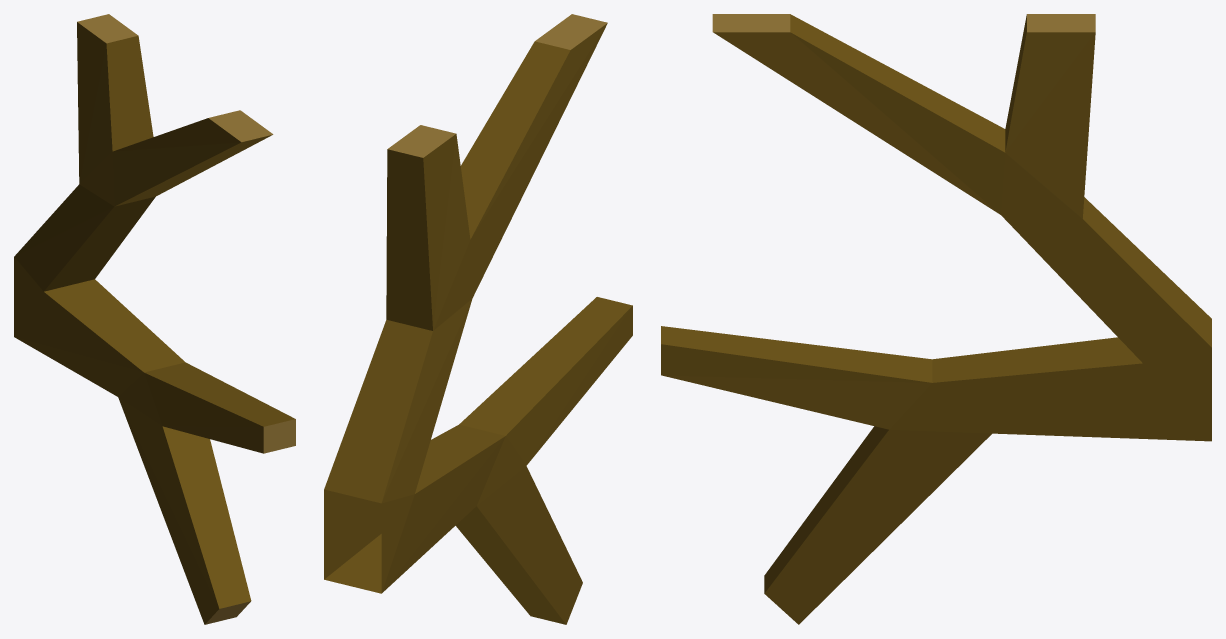
File: obj_tree_branch_1_0.obj
3 renders of one model, left to right at view 1: azimuth 30°, elevation 25°; view 2: azimuth 150°, elevation 25°; view 3: azimuth 270°, elevation 25°, orthographic. The views are drawn at different scales.
Bounding box in the file's own units: 0.125 × 1.19 × 1.
